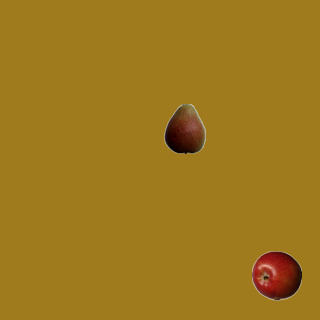Apple Braeburn: (251, 250, 301, 300)
Pear Forelle: (159, 103, 209, 153)
